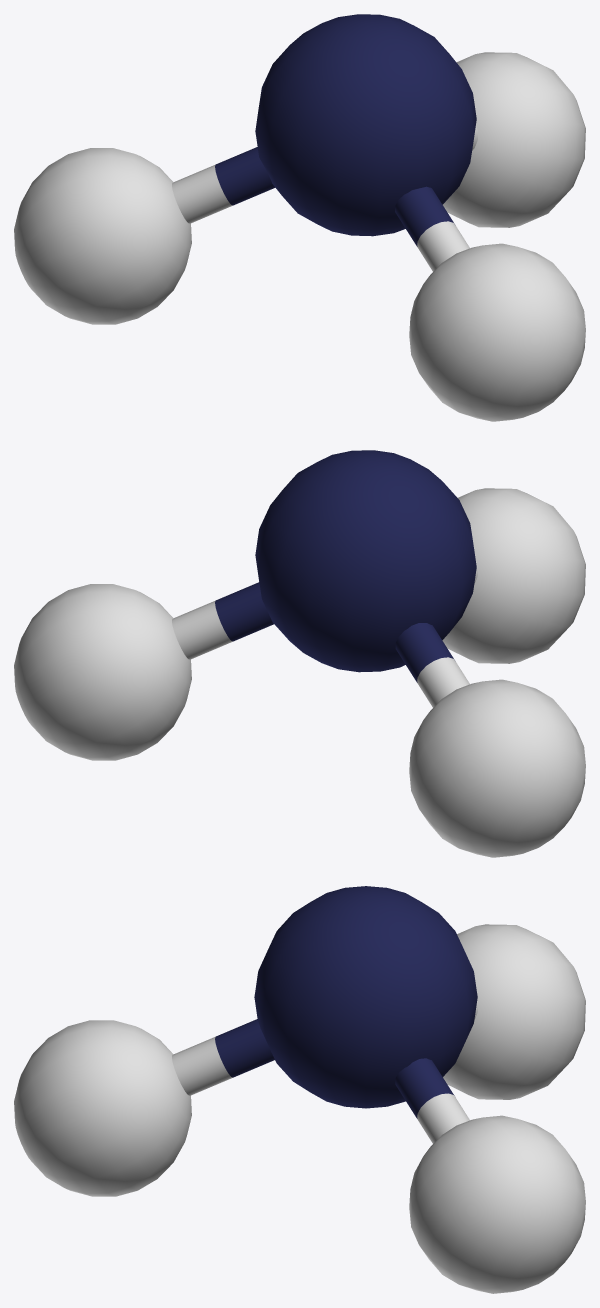
File: 01_Amoniaco.fbx
3 renders of one model, top to bottom at view 1: azimuth 30°, elevation 25°; view 2: azimuth 150°, elevation 25°; view 3: azimuth 270°, elevation 25°, orthographic.
Parts seen in each view (by area): view 1: m_amoniaco; view 2: m_amoniaco; view 3: m_amoniaco.
Boxes of the visible parts, left/top/right/bottom form: m_amoniaco: left=14, top=14, right=585, bottom=421; m_amoniaco: left=14, top=450, right=585, bottom=857; m_amoniaco: left=14, top=886, right=585, bottom=1293.
Bounding box in the file's own units: 566 × 290 × 512.
